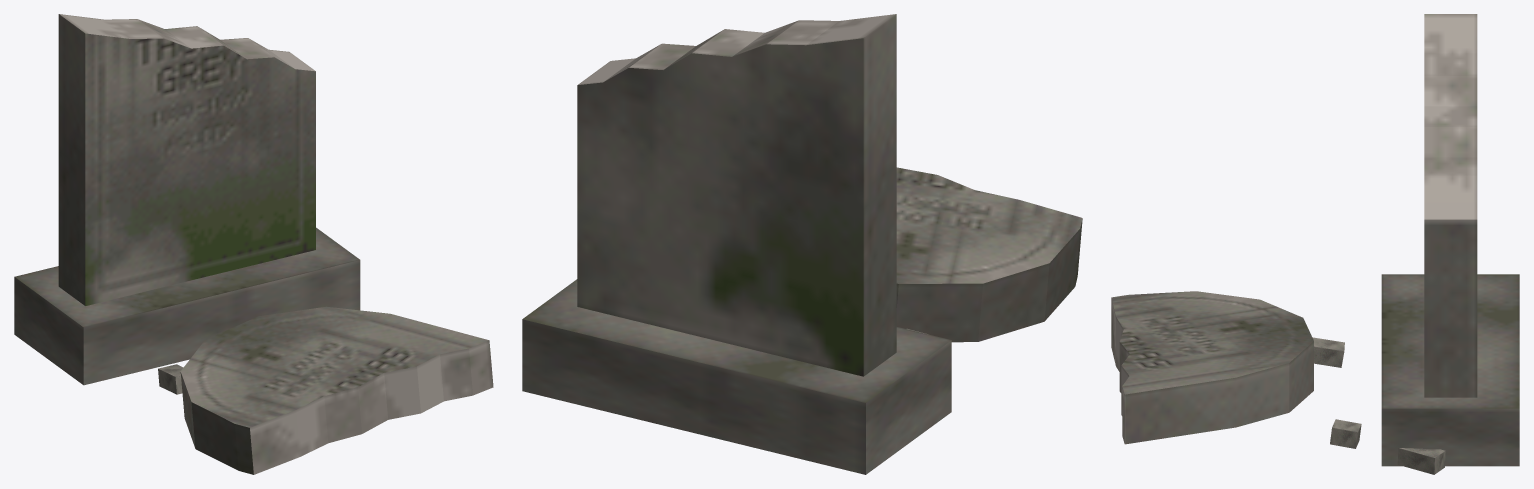
File: gravestone_broken.obj
The picture shows the model from 3 angles, left to right: view 1: azimuth 30°, elevation 25°; view 2: azimuth 150°, elevation 25°; view 3: azimuth 270°, elevation 25°; orthographic projection. The views are drawn at different scales.
Visible parts, largest first — view 1: gravestone_broken; view 2: gravestone_broken; view 3: gravestone_broken.
Part boxes in pixels (x1,y1,x2,y2): gravestone_broken: [14, 14, 493, 474]; gravestone_broken: [522, 14, 1082, 474]; gravestone_broken: [1111, 14, 1519, 474].
Bounding box in the file's own units: 0.6398 × 0.685 × 0.77.
Materials: 1 (1 with a texture image).
